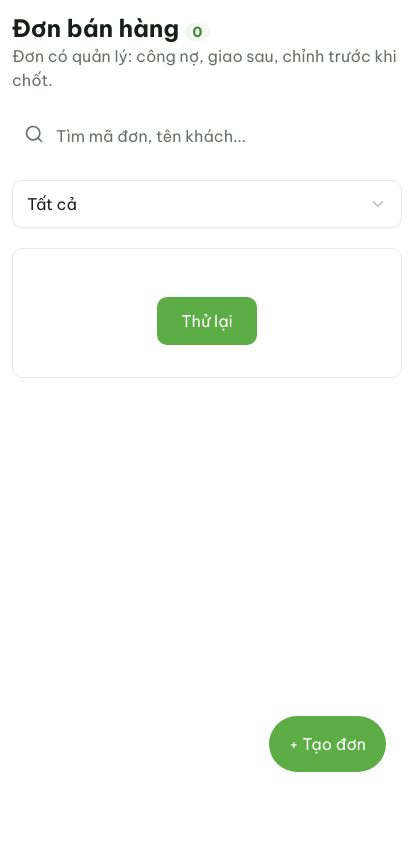
OrderList › shows 403 failure and retry
Click the button "Thử lại": (207, 321) x1=157 y1=297 x2=257 y2=345
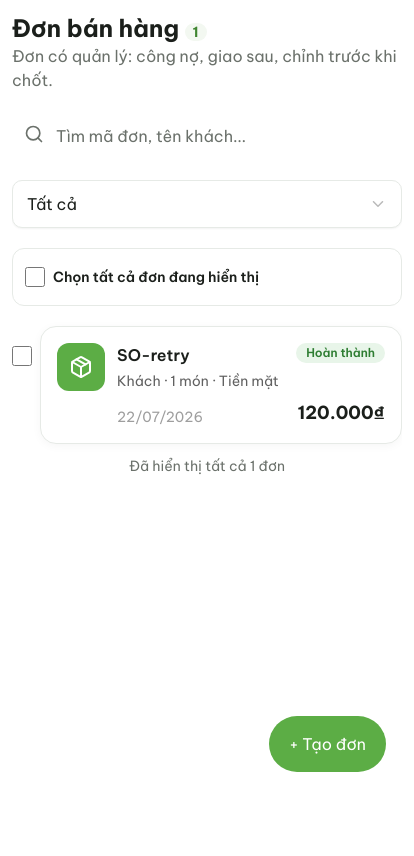
Now the text "SO-retry" is shown, box x1=117 y1=343 x2=190 y2=367
